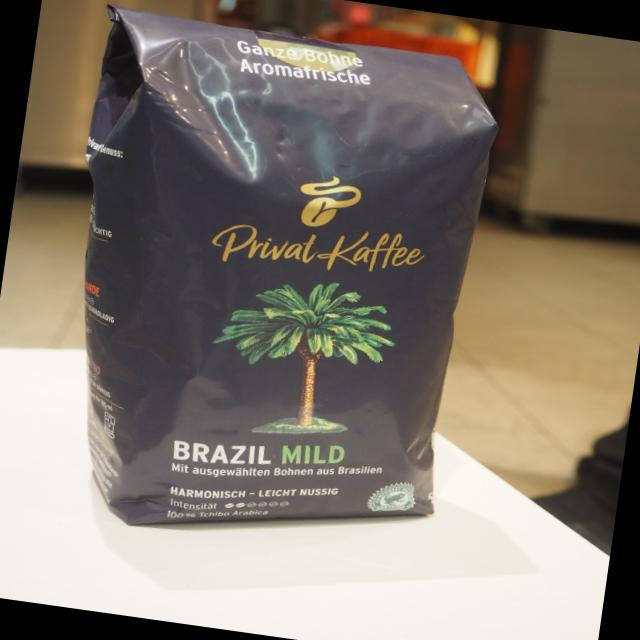BM Bohne: (63, 0, 510, 534)
